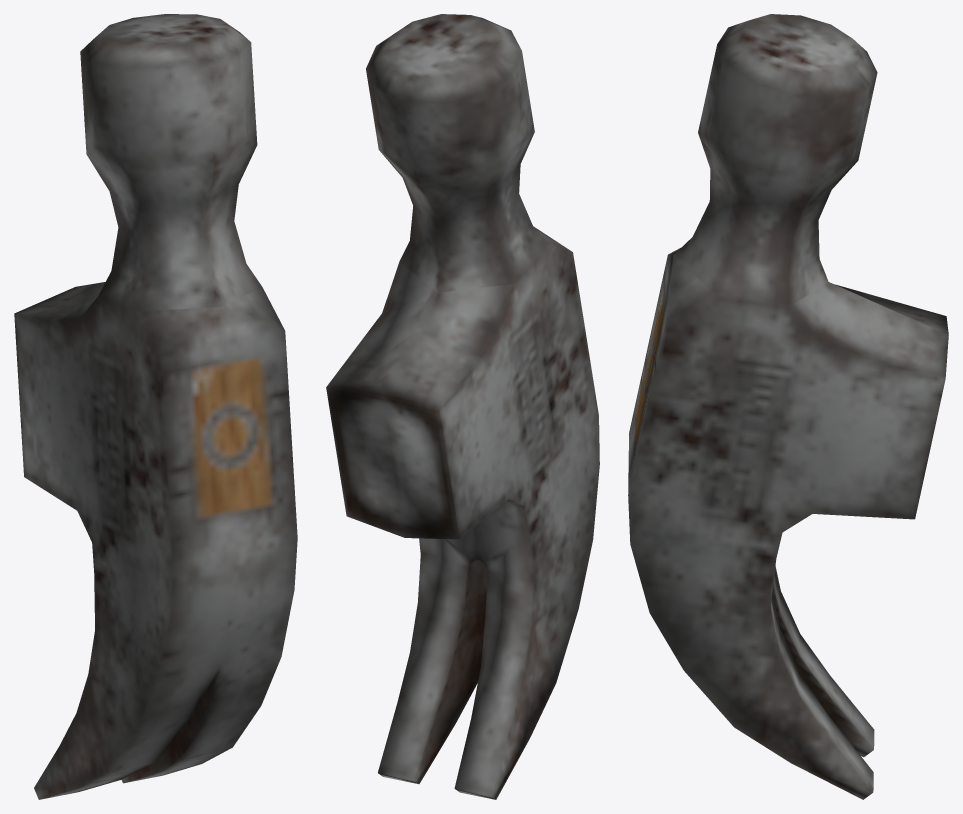
Rendered from Hammer_Head_low.obj.
3 views of the same model, side by side, from view 1: azimuth 30°, elevation 25°; view 2: azimuth 150°, elevation 25°; view 3: azimuth 270°, elevation 25° (orthographic). The views are drawn at different scales.
Bounding box in the file's own units: 0.0263 × 0.1195 × 0.0462.
Materials: 1 (1 with a texture image).
